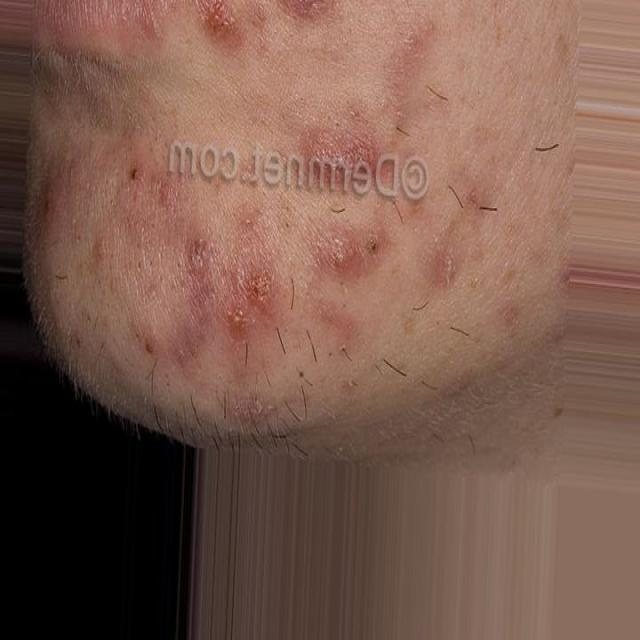acne: (216, 245, 302, 374), (304, 110, 399, 194), (306, 220, 370, 318), (194, 0, 264, 78)
